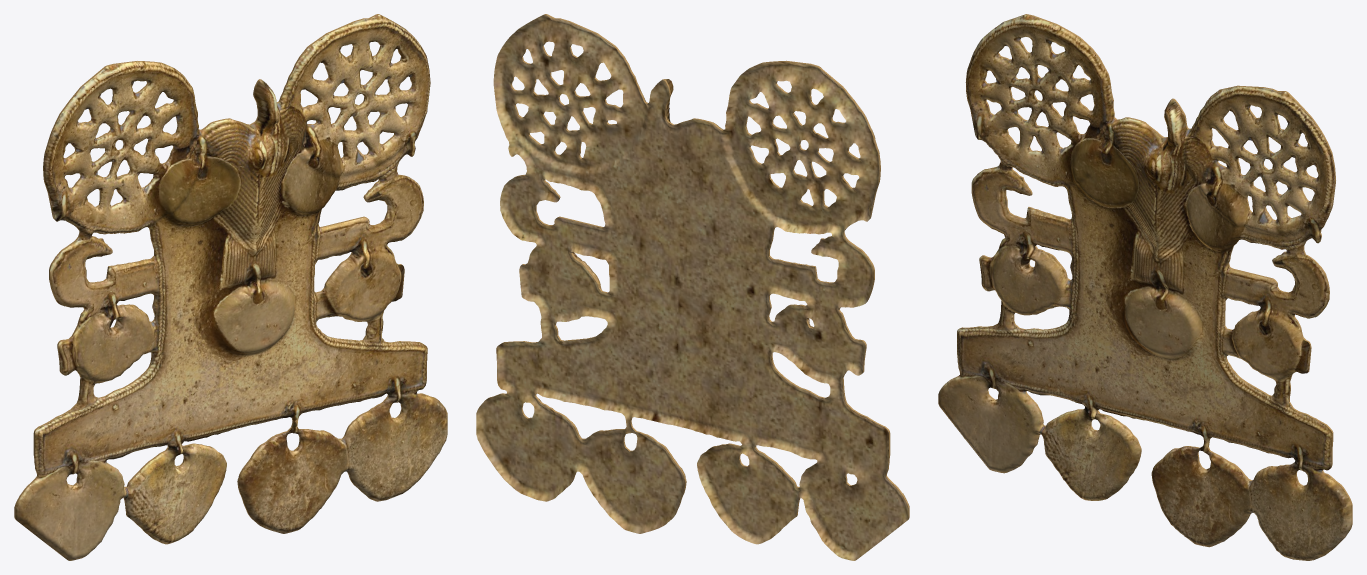
Rendered from colgante_con_pajaro.glb.
3 renders of one model, left to right at view 1: azimuth 30°, elevation 25°; view 2: azimuth 150°, elevation 25°; view 3: azimuth 330°, elevation 25°, orthographic. The views are drawn at different scales.
Parts seen in each view (by area): view 1: colgante_con_pajaro; view 2: colgante_con_pajaro; view 3: colgante_con_pajaro.
Boxes of the visible parts, x1=… form: colgante_con_pajaro: x1=14, y1=14, x2=447, y2=560; colgante_con_pajaro: x1=476, y1=14, x2=909, y2=560; colgante_con_pajaro: x1=938, y1=14, x2=1352, y2=560.
Bounding box in the file's own units: 6.84 × 7.72 × 0.3291.
1 material, 1 textured.
